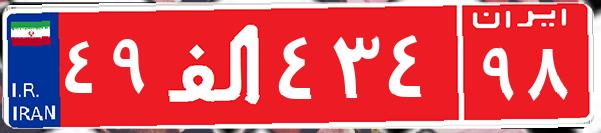3: (330, 28, 385, 110)
4: (385, 28, 445, 110), (273, 28, 330, 110), (57, 26, 110, 107)
8: (525, 38, 570, 115)
9: (475, 38, 525, 113), (110, 28, 158, 105)
الف: (158, 15, 273, 115)
